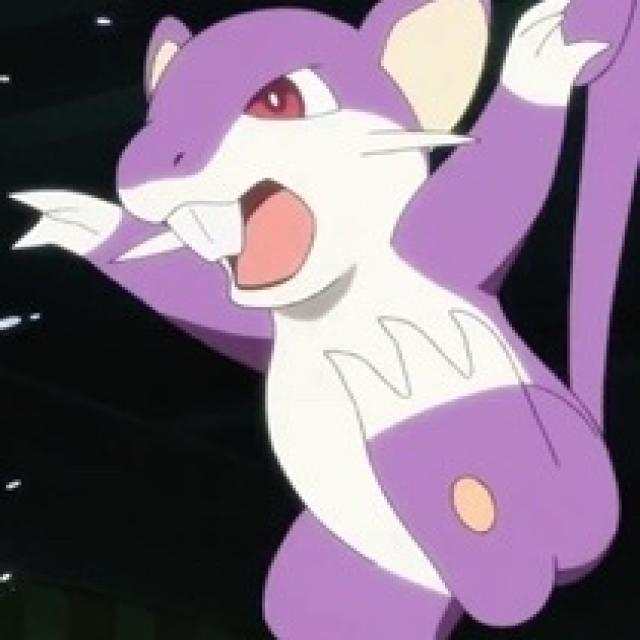Rattata: (127, 7, 600, 616)
